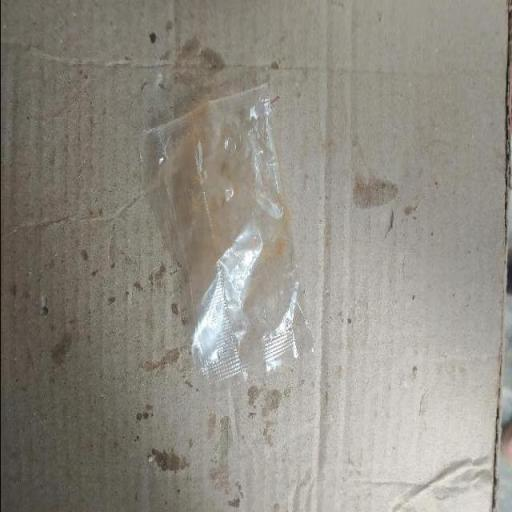plastic-bag: (136, 84, 319, 387)
